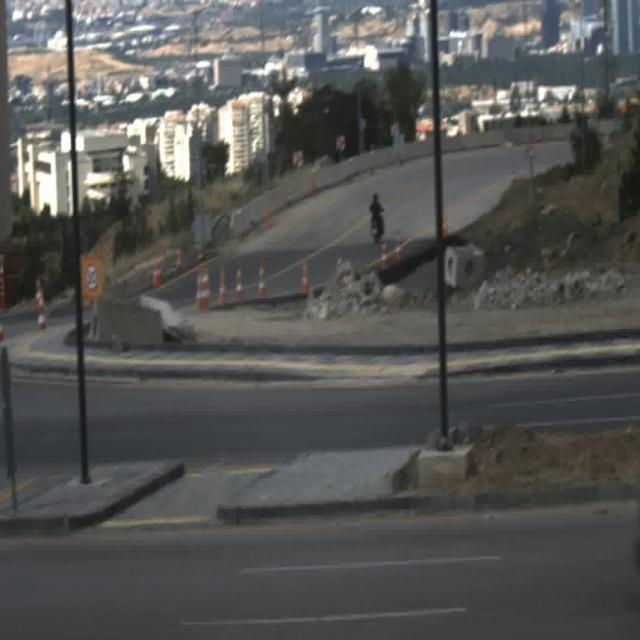Motorcycle: (368, 189, 386, 245)
